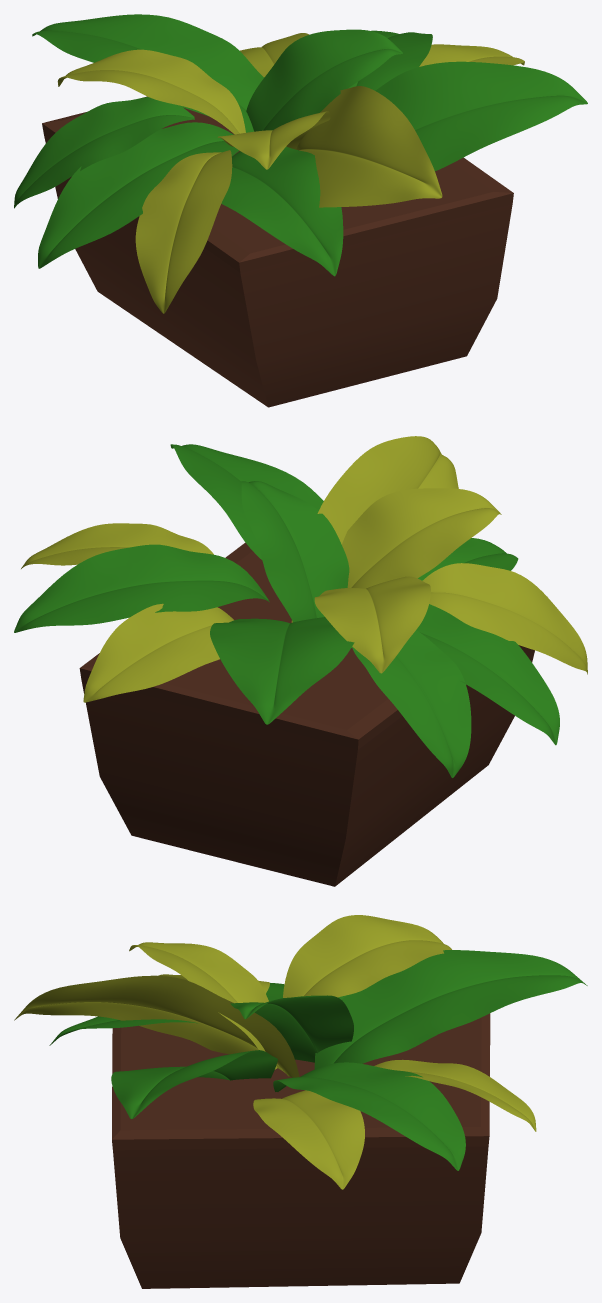
Rendered from Planta_Chiquita.fbx.
3 views of the same model, one above another, from view 1: azimuth 30°, elevation 25°; view 2: azimuth 150°, elevation 25°; view 3: azimuth 270°, elevation 25° (orthographic). The views are drawn at different scales.
Visible parts, largest first — view 1: Box133, Object055, Object051, Object049, Object054, Object048, Object050, Object047, Object053, Object052, Object057, Object056 (+2 smaller); view 2: Box133, Object056, Object057, Object047, Object050, Object054, Object059, Object053, Object049, Object051, Object052, Object055 (+2 smaller); view 3: Box133, Object047, Object051, Object052, Object056, Object058, Object050, Object055, Object057, Object059, Object048.
Part boxes in pixels (x1,y1,x2,y2): Box133: (42,96,513,407); Object055: (375,61,587,171); Object051: (296,86,442,207); Object049: (38,122,239,268); Object054: (135,150,232,313); Object048: (221,146,343,276); Object050: (246,29,402,131); Object047: (32,14,264,132); Object053: (14,97,194,208); Object052: (57,49,245,134); Object057: (217,111,330,169); Object056: (348,30,432,90); Box133: (79,542,534,886); Object056: (14,544,269,632); Object057: (342,488,501,588); Object047: (210,617,354,724); Object050: (241,481,349,622); Object054: (422,563,587,674); Object059: (83,603,233,702); Object053: (352,630,471,777); Object049: (416,604,559,745); Object051: (291,436,458,622); Object052: (314,576,430,673); Object055: (170,444,323,559); Box133: (112,1013,490,1288); Object047: (314,950,587,1068); Object051: (14,975,299,1077); Object052: (283,915,451,997); Object056: (273,1062,465,1170); Object058: (253,1090,364,1189); Object050: (230,995,353,1062); Object055: (111,1050,277,1118); Object057: (129,942,277,1069); Object059: (374,1059,536,1131); Object048: (49,1016,197,1045).
Size of the model in its own units: 73.78 by 39.49 by 73.52.
